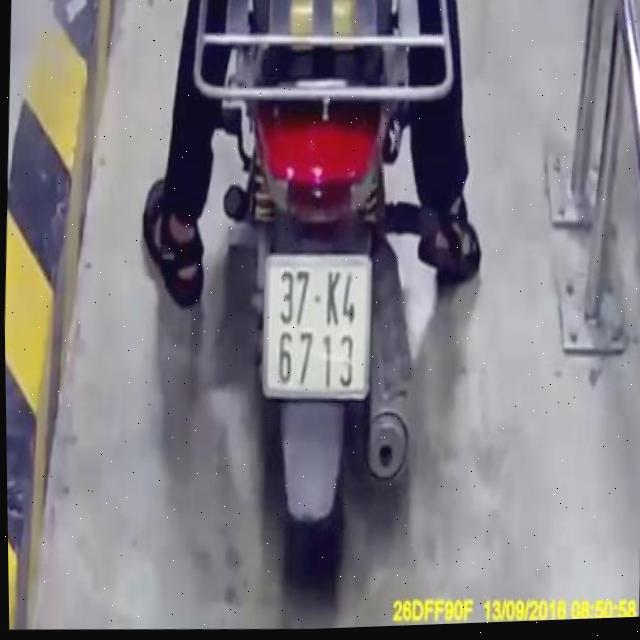motorcycle: (179, 0, 459, 577)
plate: (247, 236, 378, 411)
